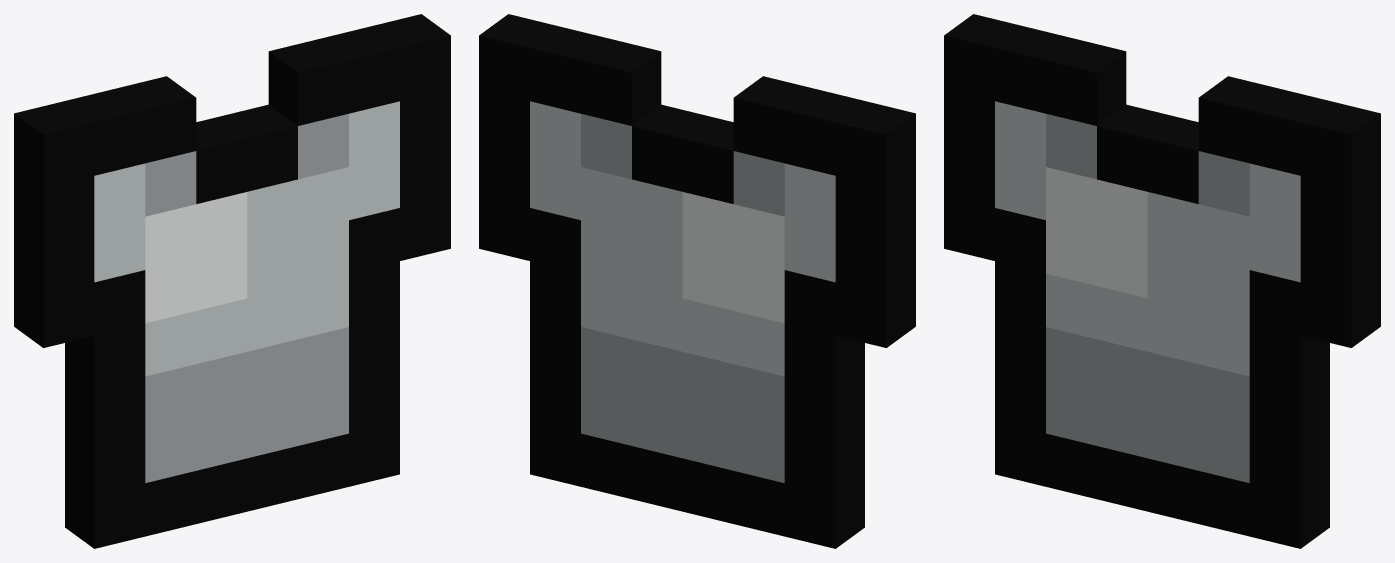
File: Iron Chestplate.glb
3 renders of one model, left to right at view 1: azimuth 30°, elevation 25°; view 2: azimuth 150°, elevation 25°; view 3: azimuth 330°, elevation 25°, orthographic.
Visible parts, largest first — view 1: generated(Clone); view 2: generated(Clone); view 3: generated(Clone).
Boxes of the visible parts, left/top/right/bottom form: generated(Clone): left=14, top=14, right=450, bottom=548; generated(Clone): left=479, top=14, right=915, bottom=548; generated(Clone): left=944, top=14, right=1380, bottom=548.
Size of the model in its own units: 8 by 8 by 1.
1 material, 1 textured.
